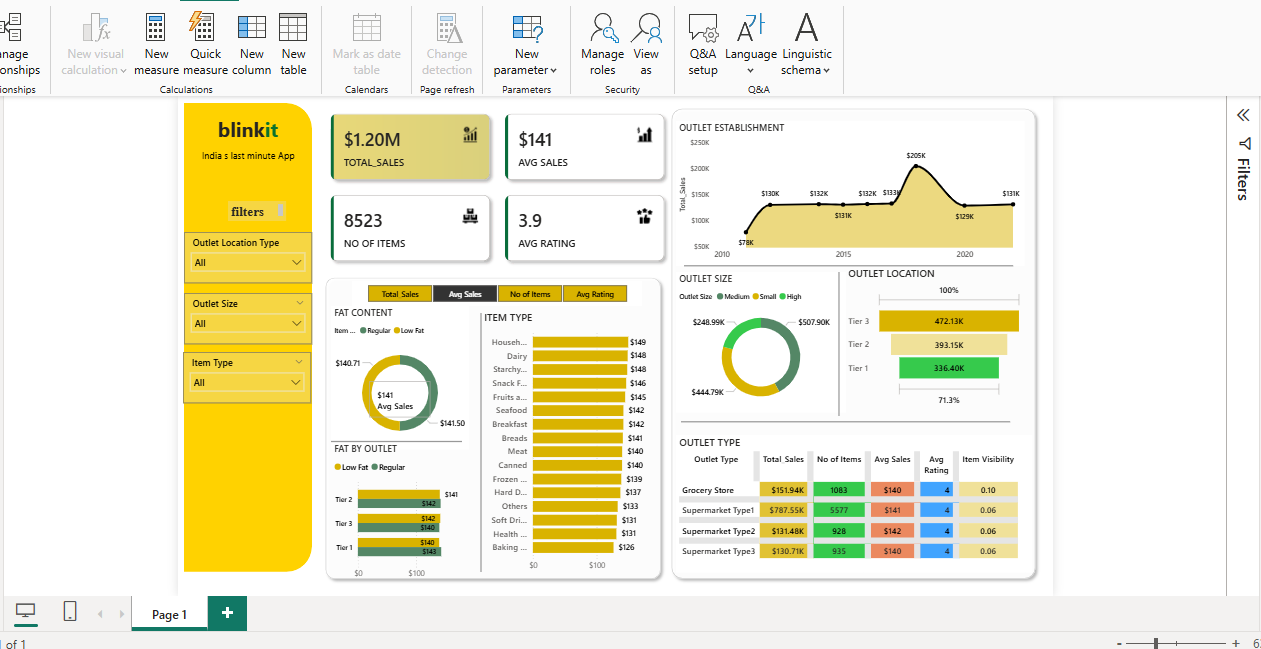

The dashboard page shown, as its layout file describes it:
{"tool":"powerbi","page":{"name":"Page 1","canvas":[1400,800],"ordinal":0},"visuals":[{"type":"shape","box":[9.6,11.2,204.8,750.4],"z":0},{"type":"textbox","box":[20.8,25.6,182.4,54.4],"z":1000},{"type":"textbox","box":[20,80,183.3,35],"z":2000},{"type":"cardVisual","fields":{"Data":["BlinkIT Grocery Data.Total_Sales","BlinkIT Grocery Data.Avg Sales","BlinkIT Grocery Data.No of Items","BlinkIT Grocery Data.Avg Rating"]},"box":[227.2,11.2,569.6,270.4],"z":3000},{"type":"shape","box":[227,281,554,500],"z":4000},{"type":"donutChart","title":"FAT CONTENT","fields":{"Y":["BlinkIT Grocery Data.Avg Sales"],"Category":["BlinkIT Grocery Data.Item Fat Content"]},"box":[244.8,336,220.8,230.4],"z":5000},{"type":"slicer","fields":{"Values":["Metrics.Metrics"]},"box":[278.4,296,464,40],"z":6000},{"type":"cardVisual","fields":{"Data":["BlinkIT Grocery Data.Avg Sales"]},"box":[300.8,451.2,108.8,68.8],"z":6001},{"type":"clusteredBarChart","title":"FAT BY OUTLET","fields":{"Y":["BlinkIT Grocery Data.Avg Sales"],"Category":["BlinkIT Grocery Data.Outlet Location Type"],"Series":["BlinkIT Grocery Data.Item Fat Content"]},"box":[244.8,553.6,220.8,228.8],"z":6002},{"type":"shape","box":[244.8,542.4,209.6,20.8],"z":6003},{"type":"shape","box":[465.6,347.2,38.4,414.4],"z":6004},{"type":"barChart","title":"ITEM TYPE","fields":{"Category":["BlinkIT Grocery Data.Item Type"],"Y":["BlinkIT Grocery Data.Avg Sales"]},"box":[485,341.7,281.7,426.7],"z":6005},{"type":"shape","box":[780,11.7,600,770],"z":6006},{"type":"lineChart","title":"OUTLET ESTABLISHMENT","fields":{"Category":["BlinkIT Grocery Data.Outlet Establishment Year"],"Y":["BlinkIT Grocery Data.Total_Sales"]},"box":[796.7,40,558.3,231.7],"z":6007},{"type":"shape","box":[810,260,526.7,21.7],"z":6008},{"type":"donutChart","title":"OUTLET SIZE","fields":{"Y":["BlinkIT Grocery Data.Total_Sales"],"Category":["BlinkIT Grocery Data.Outlet Size"]},"box":[796.7,281.7,272,225],"z":6009},{"type":"shape","box":[1038.3,281.7,38.3,230],"z":6010},{"type":"funnel","title":"OUTLET LOCATION","fields":{"Category":["BlinkIT Grocery Data.Outlet Location Type"],"Y":["Sum(BlinkIT Grocery Data.Sales)"]},"box":[1066.7,271.7,288.3,230],"z":6011},{"type":"shape","box":[805,510,526.7,21.7],"z":6012},{"type":"pivotTable","title":"OUTLET TYPE","fields":{"Rows":["BlinkIT Grocery Data.Outlet Type"],"Values":["BlinkIT Grocery Data.Total_Sales","BlinkIT Grocery Data.No of Items","BlinkIT Grocery Data.Avg Sales","BlinkIT Grocery Data.Avg Rating","Avg(BlinkIT Grocery Data.Item Visibility)"]},"box":[796.7,541.7,570,220],"z":6013},{"type":"slicer","fields":{"Values":["BlinkIT Grocery Data.Outlet Location Type"]},"box":[10,218.3,205,81.7],"z":6014},{"type":"slicer","fields":{"Values":["BlinkIT Grocery Data.Outlet Size"]},"box":[10,315,205,81.7],"z":6015},{"type":"slicer","fields":{"Values":["BlinkIT Grocery Data.Item Type"]},"box":[8.3,410,205,81.7],"z":6016},{"type":"textbox","box":[80,168.3,93.3,31.7],"z":6017}]}

Visuals, with their boxes on the page's 1400x800 design canvas (x1, y1, x2, y2). These are canvas units, not pixel positions in the 1261x649 screenshot, which may show the page scaled, cropped or inside an application window:
shape: <box>10,11,214,762</box>
textbox: <box>21,26,203,80</box>
textbox: <box>20,80,203,115</box>
cardVisual - BlinkIT Grocery Data.Total_Sales x BlinkIT Grocery Data.Avg Sales: <box>227,11,797,282</box>
shape: <box>227,281,781,781</box>
"FAT CONTENT" donutChart: <box>245,336,466,566</box>
slicer - Metrics.Metrics: <box>278,296,742,336</box>
cardVisual - BlinkIT Grocery Data.Avg Sales: <box>301,451,410,520</box>
"FAT BY OUTLET" clusteredBarChart: <box>245,554,466,782</box>
shape: <box>245,542,454,563</box>
shape: <box>466,347,504,762</box>
"ITEM TYPE" barChart: <box>485,342,767,768</box>
shape: <box>780,12,1380,782</box>
"OUTLET ESTABLISHMENT" lineChart: <box>797,40,1355,272</box>
shape: <box>810,260,1337,282</box>
"OUTLET SIZE" donutChart: <box>797,282,1069,507</box>
shape: <box>1038,282,1077,512</box>
"OUTLET LOCATION" funnel: <box>1067,272,1355,502</box>
shape: <box>805,510,1332,532</box>
"OUTLET TYPE" pivotTable: <box>797,542,1367,762</box>
slicer - BlinkIT Grocery Data.Outlet Location Type: <box>10,218,215,300</box>
slicer - BlinkIT Grocery Data.Outlet Size: <box>10,315,215,397</box>
slicer - BlinkIT Grocery Data.Item Type: <box>8,410,213,492</box>
textbox: <box>80,168,173,200</box>
